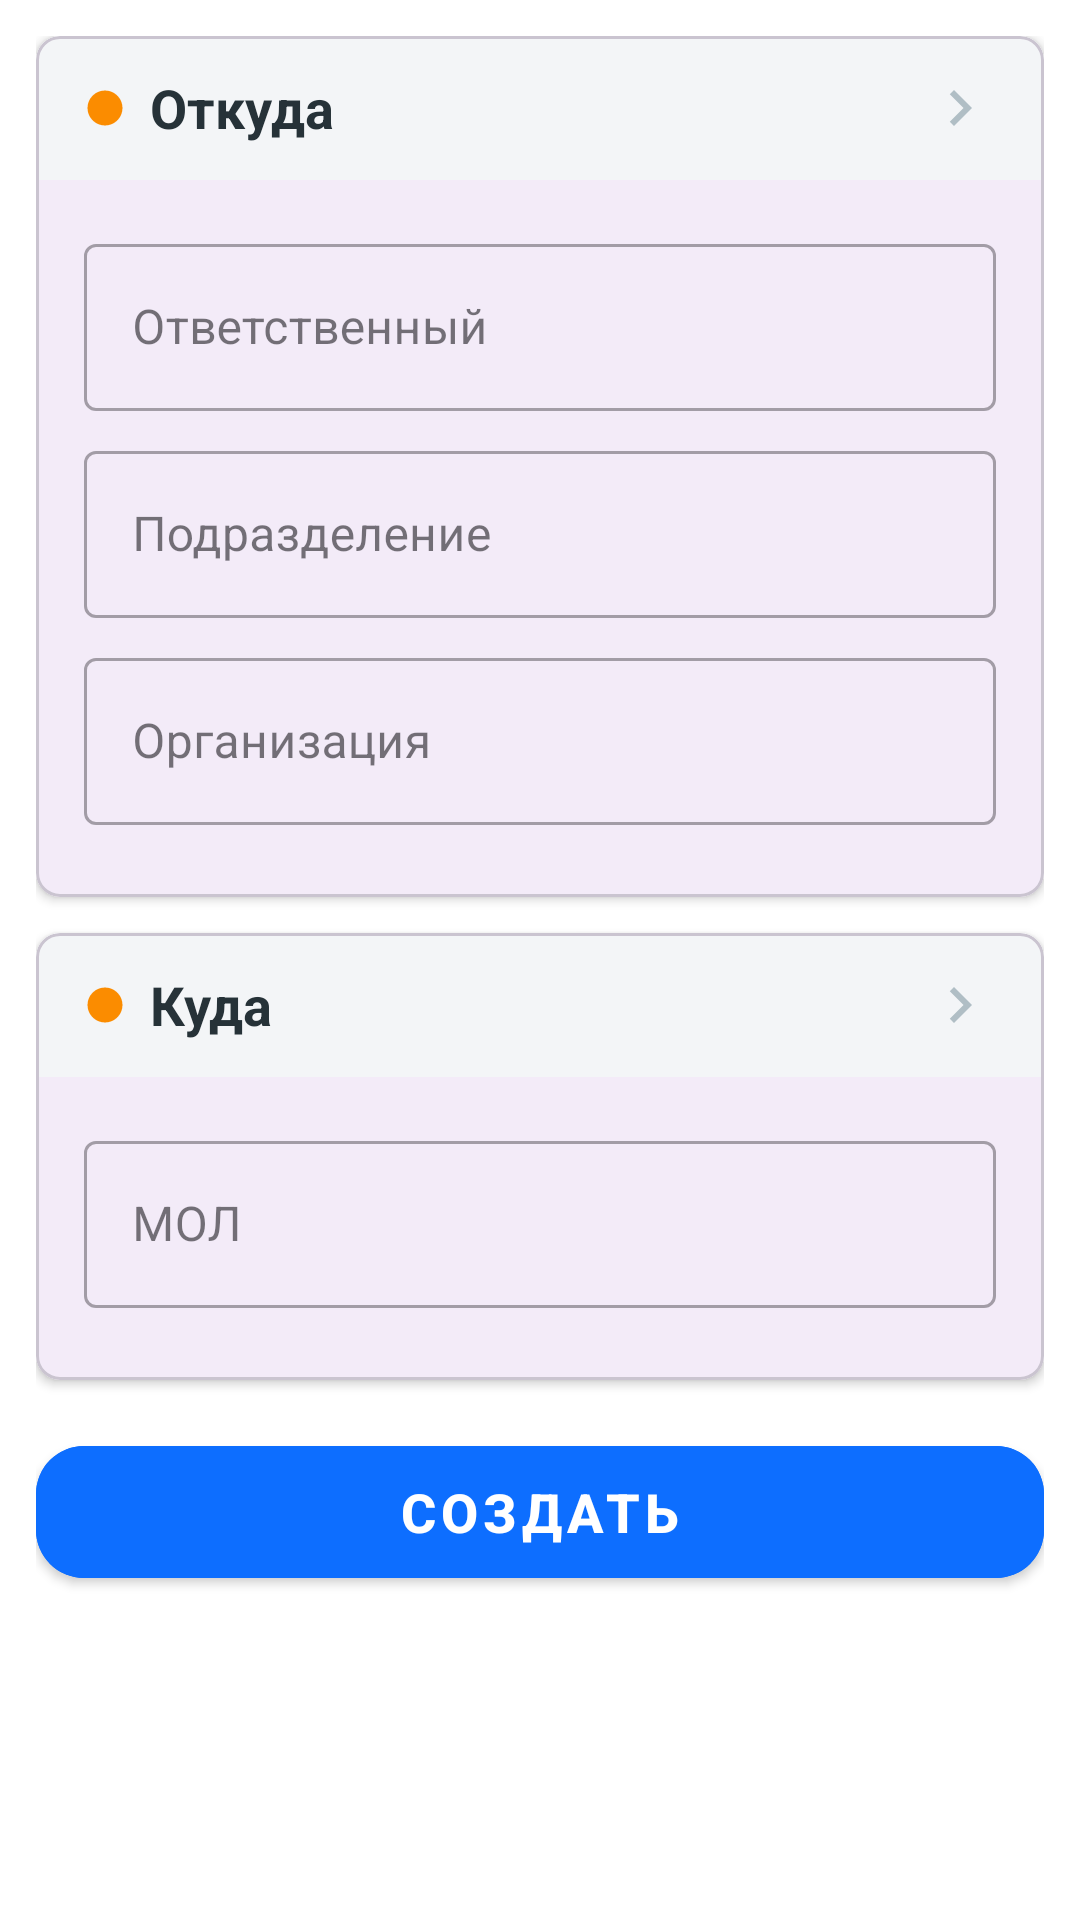

Point at icon controls on the screen. Image size 1080x1920, points as point (x, y).
chevron right: point (961, 108), point (961, 1005)
